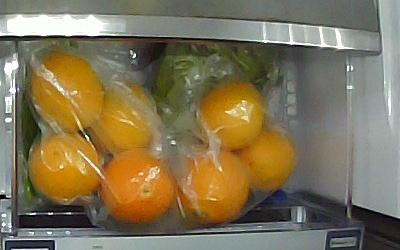orange_vinyl: (170, 144, 249, 223), (29, 49, 105, 129), (98, 146, 176, 223), (26, 130, 101, 202), (194, 76, 266, 150), (88, 78, 155, 155), (234, 127, 295, 191)
